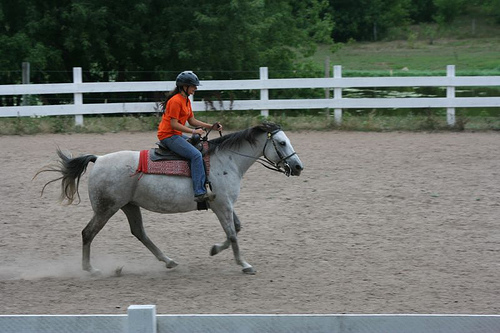without_mask: (175, 73, 198, 98)
